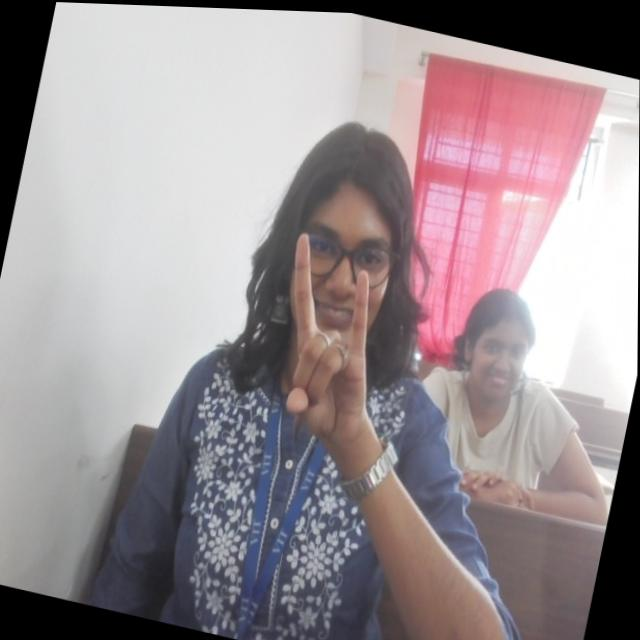iloveyou: (255, 221, 402, 451)
